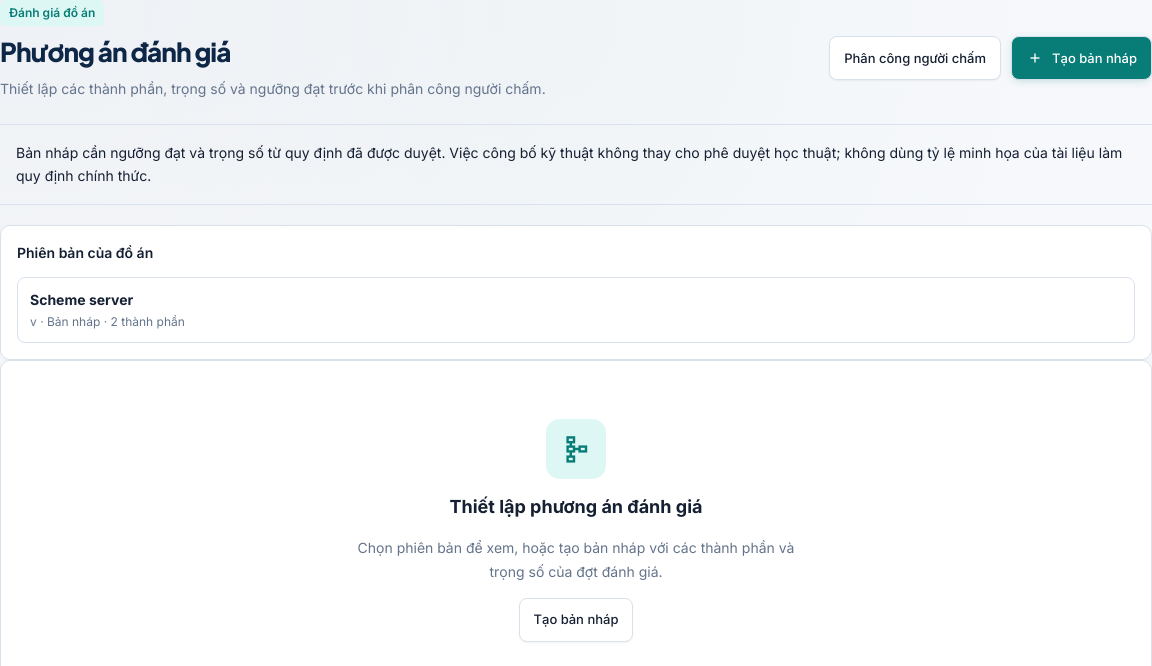
Test: accepts a zero-weight tracking component only for COLD, not DEFENSE otherwise
The image size is (1152, 666).
Click the button "Scheme server v · Bản nháp · 2 thành phần" at (82,299), box [17,277,1135,343]
(page scrolled)
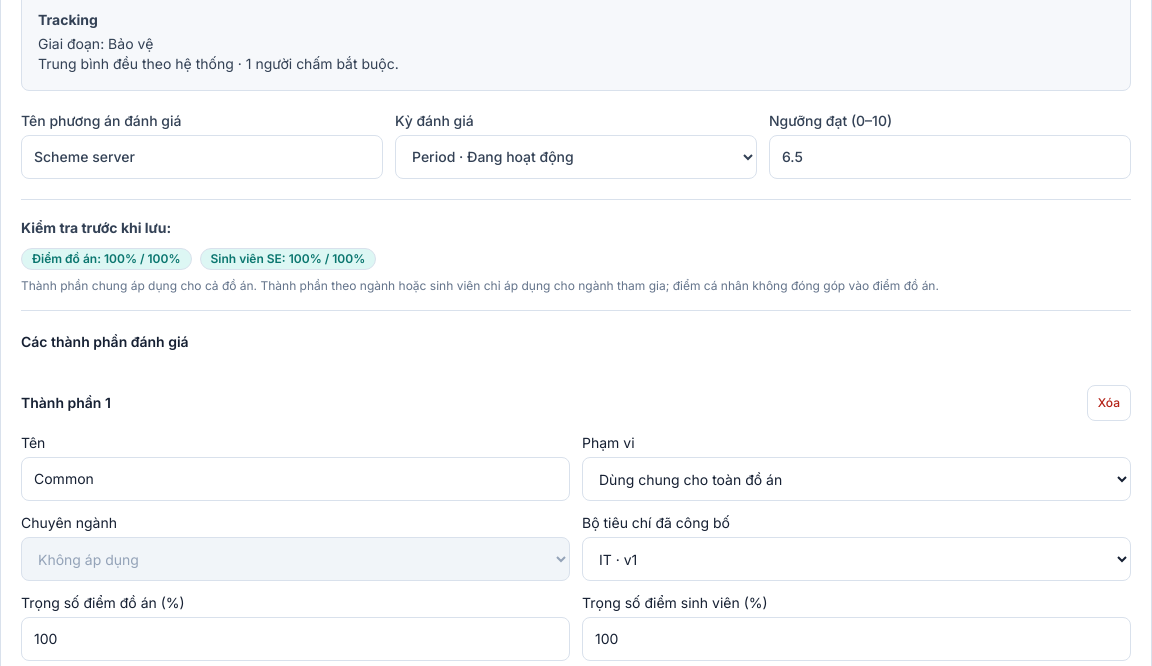
Submit the form named "Tên phương án đánh giá"
(page scrolled)
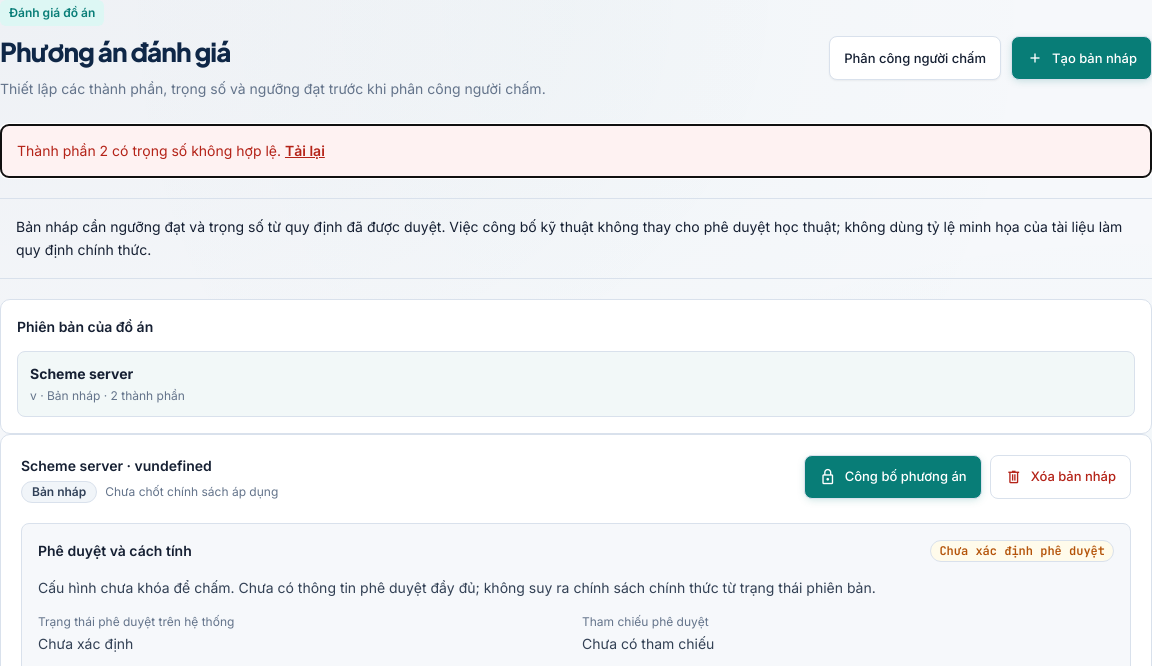
Expected: the message "Thành phần 2 có trọng số không hợp lệ. Tải lại" is shown, [0,124,1151,178]
